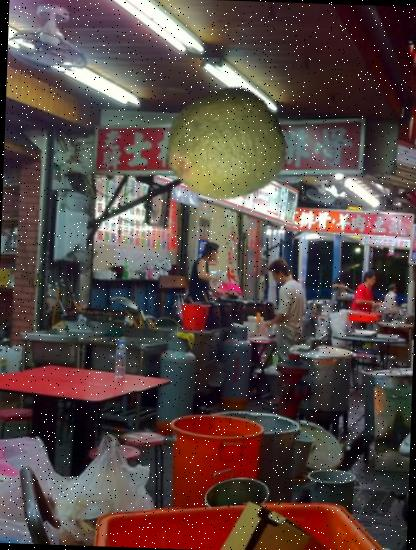Limes: (162, 84, 286, 208)
